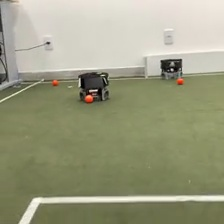ball: (83, 92, 94, 103), (51, 77, 59, 87), (176, 76, 185, 84)
goal: (141, 48, 224, 80)
robot: (75, 69, 111, 102), (158, 57, 184, 81)
